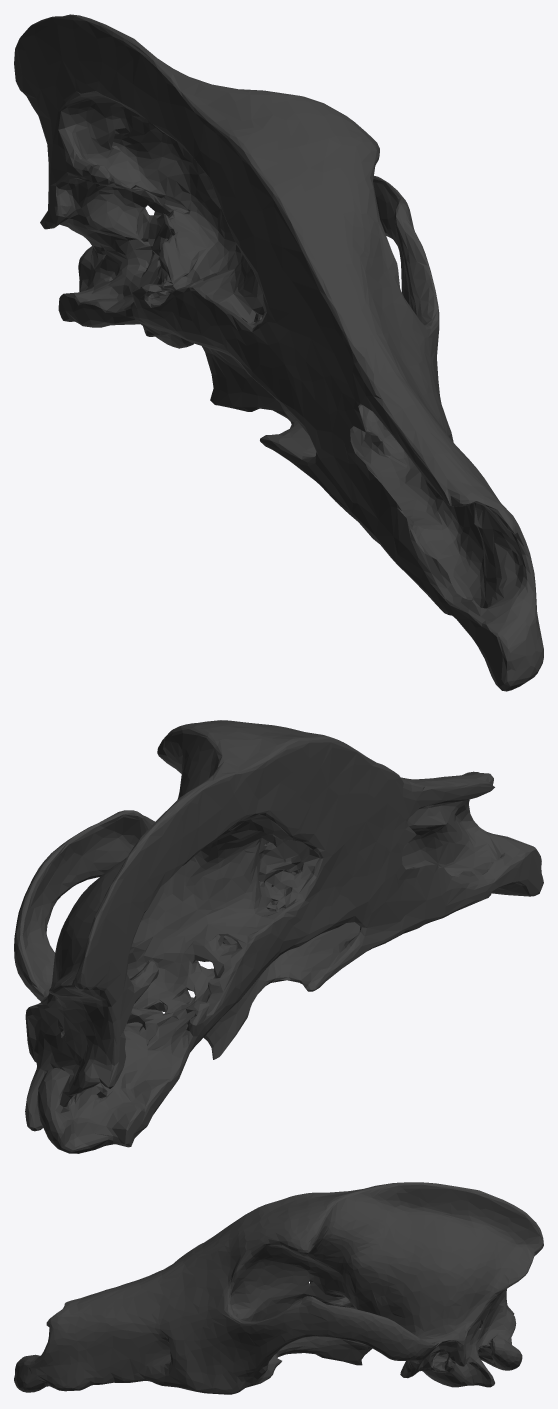
Rendered from Maxilla_LO.glb.
The picture shows the model from 3 angles, top to bottom: view 1: azimuth 30°, elevation 25°; view 2: azimuth 150°, elevation 25°; view 3: azimuth 270°, elevation 25°; orthographic projection. The views are drawn at different scales.
Parts seen in each view (by area): view 1: Maxilla_LO; view 2: Maxilla_LO; view 3: Maxilla_LO.
Part boxes in pixels (x1,y1,x2,y2): Maxilla_LO: (14,14,543,691); Maxilla_LO: (14,720,543,1153); Maxilla_LO: (14,1182,543,1394).
Size of the model in its own units: 3.78 by 6.5 by 15.32.
1 material, 1 textured.
